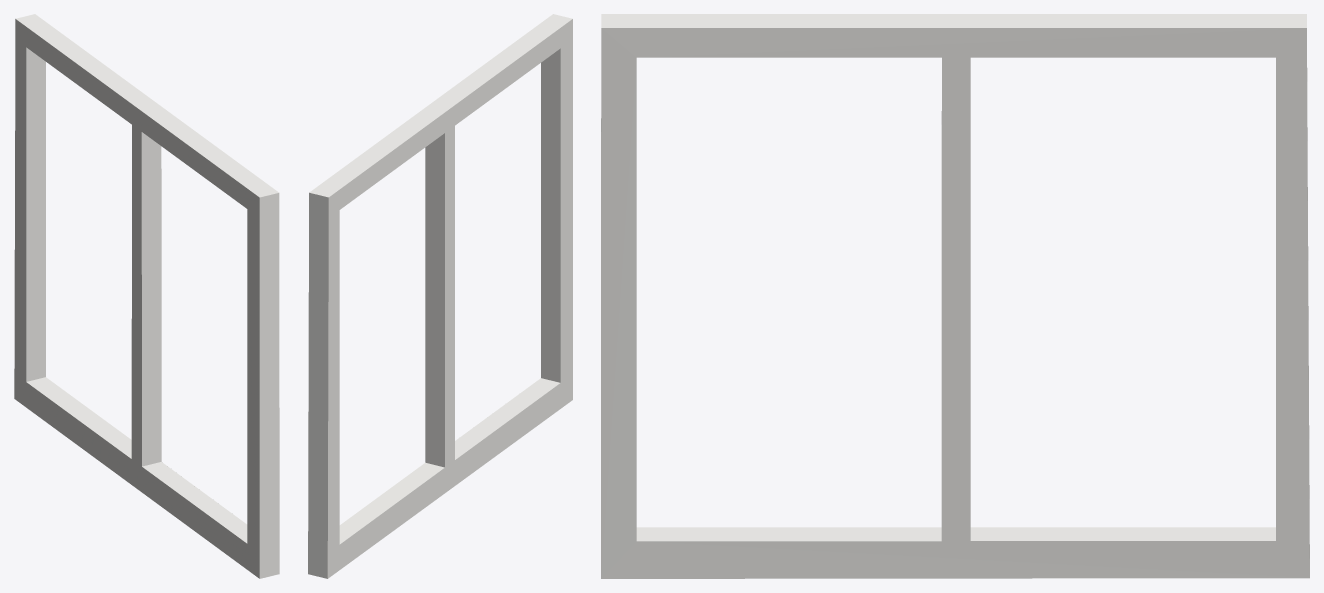
The model's file is WindowFrame.fbx.
The picture shows the model from 3 angles, left to right: view 1: azimuth 30°, elevation 25°; view 2: azimuth 150°, elevation 25°; view 3: azimuth 270°, elevation 25°; orthographic projection. The views are drawn at different scales.
Visible parts, largest first — view 1: pCube2; view 2: pCube2; view 3: pCube2.
Boxes of the visible parts, bbox=[...] form: pCube2: bbox=[14, 14, 279, 578]; pCube2: bbox=[308, 14, 572, 578]; pCube2: bbox=[601, 14, 1309, 578].
Bounding box in the file's own units: 1.01 × 18.51 × 21.58.
